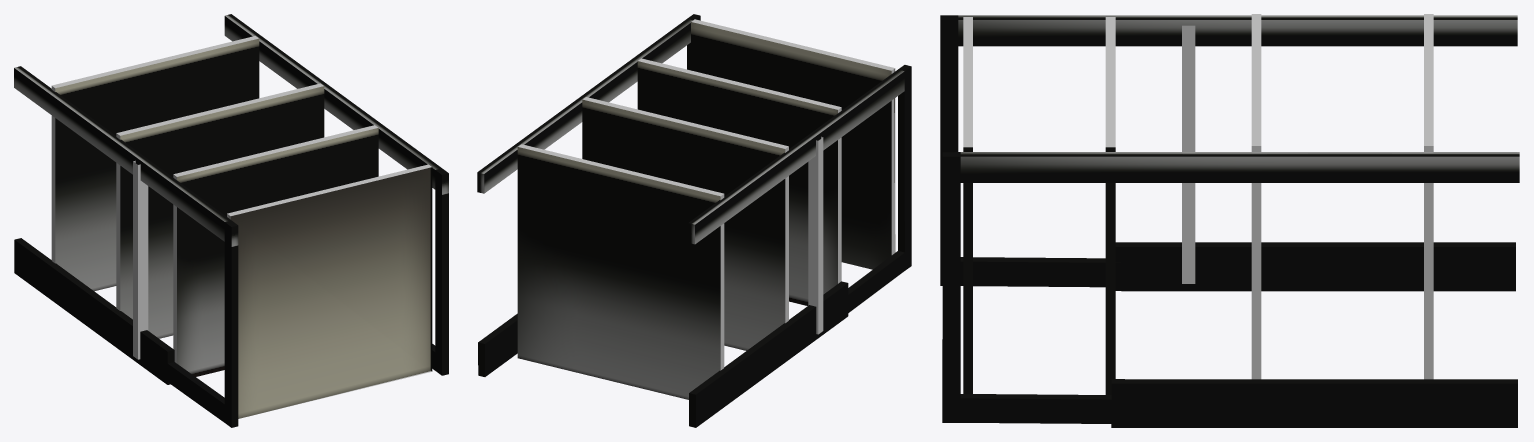
File: shelvesshortthin150_wtf.obj
3 renders of one model, left to right at view 1: azimuth 30°, elevation 25°; view 2: azimuth 150°, elevation 25°; view 3: azimuth 270°, elevation 25°, orthographic. The views are drawn at different scales.
Visible parts, largest first — view 1: group4, group6, group2, group10, group3, group9, group8; view 2: group4, group6, group2, group10, group3, group9; view 3: group2, group6, group10, group3, group7, group8.
Boxes of the visible parts, <box> form: group4: <box>55,38,430,418</box>; group6: <box>14,66,238,427</box>; group2: <box>224,14,448,375</box>; group10: <box>51,86,148,359</box>; group3: <box>52,36,431,413</box>; group9: <box>173,174,230,363</box>; group8: <box>430,167,432,371</box>; group4: <box>517,22,895,399</box>; group6: <box>688,65,911,427</box>; group2: <box>477,14,700,376</box>; group10: <box>720,136,823,370</box>; group3: <box>518,19,894,196</box>; group9: <box>838,68,895,283</box>; group2: <box>942,152,1519,427</box>; group6: <box>940,15,1517,291</box>; group10: <box>1182,25,1433,379</box>; group3: <box>963,14,1433,147</box>; group7: <box>1105,147,1115,394</box>; group8: <box>963,147,972,393</box>.
Bounding box in the file's own units: 385 × 354 × 660.
